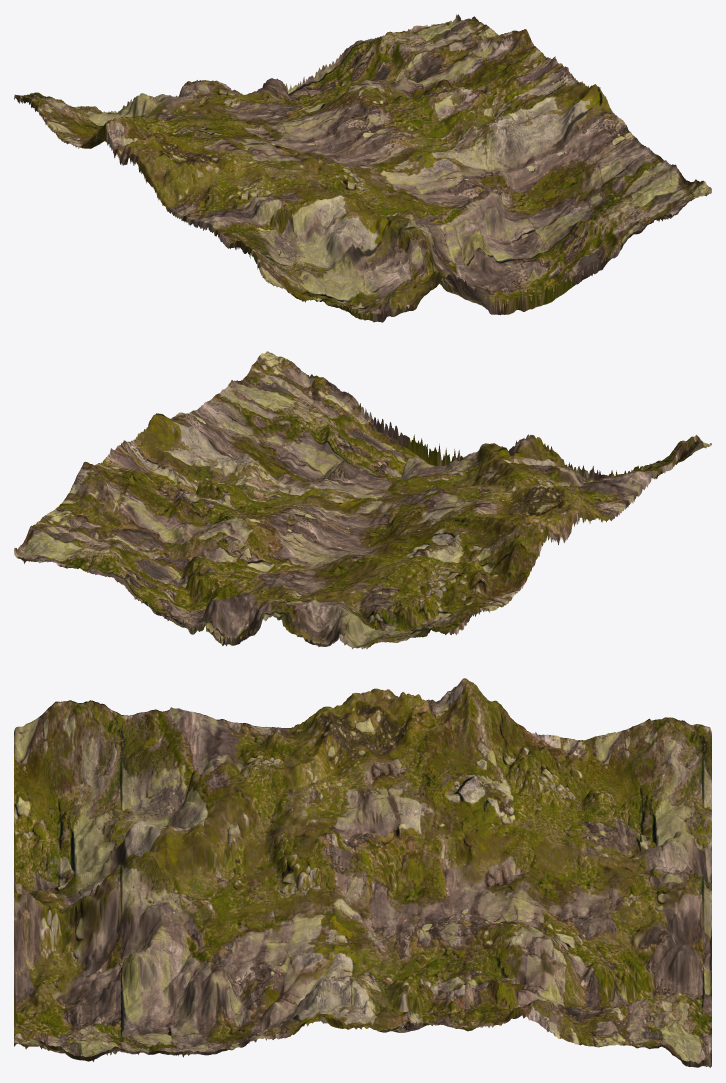
File: TexturedTerrain6.glb
The picture shows the model from 3 angles, top to bottom: view 1: azimuth 30°, elevation 25°; view 2: azimuth 150°, elevation 25°; view 3: azimuth 270°, elevation 25°; orthographic projection. The views are drawn at different scales.
Parts seen in each view (by area): view 1: Plane; view 2: Plane; view 3: Plane.
Part boxes in pixels (left/top/right/bottom): Plane: left=14, top=14, right=711, bottom=322; Plane: left=14, top=351, right=711, bottom=649; Plane: left=14, top=678, right=711, bottom=1067.
Size of the model in its own units: 1000 by 284 by 1000.
1 material, 1 textured.
